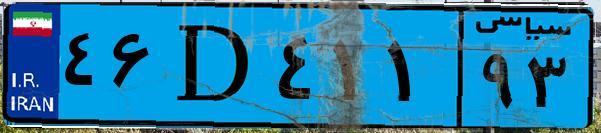1: (385, 28, 445, 110), (330, 28, 385, 110)
3: (525, 38, 570, 115)
4: (270, 28, 330, 110), (57, 26, 110, 100)
6: (110, 28, 158, 98)
9: (475, 38, 525, 113)
D: (158, 12, 270, 120)
